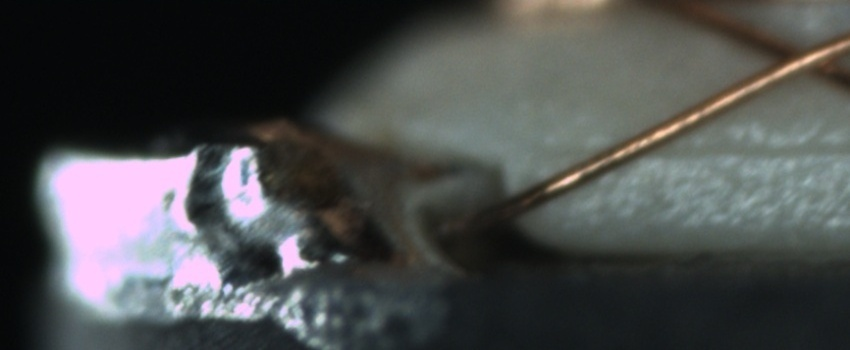CL: (749, 24, 845, 90)
DL: (567, 118, 847, 182)
